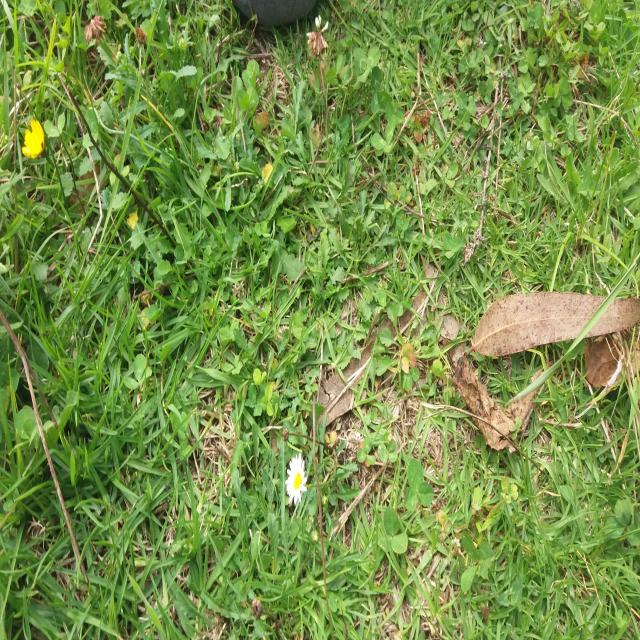Four Leaf Clover: (117, 363, 145, 382), (377, 438, 397, 463)
